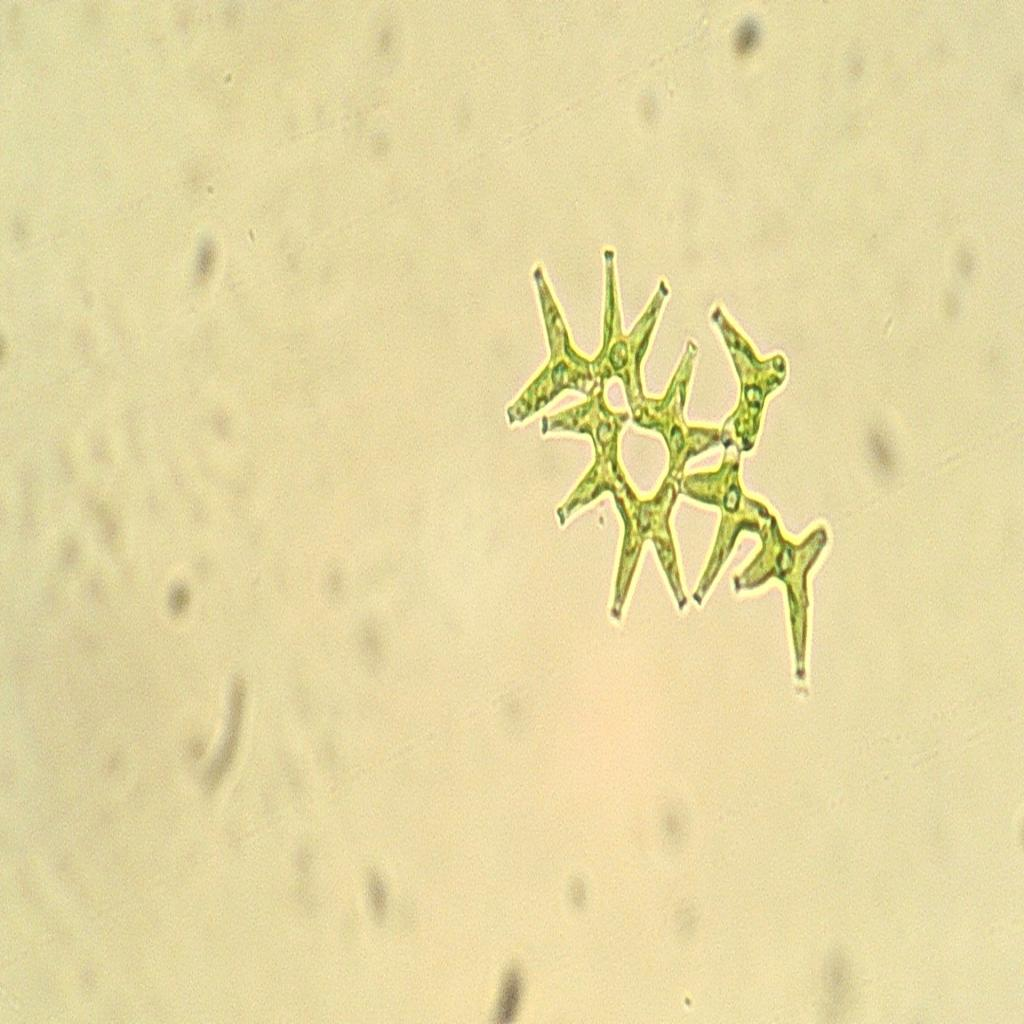Pediastrum_1TH: (500, 182, 848, 710)
